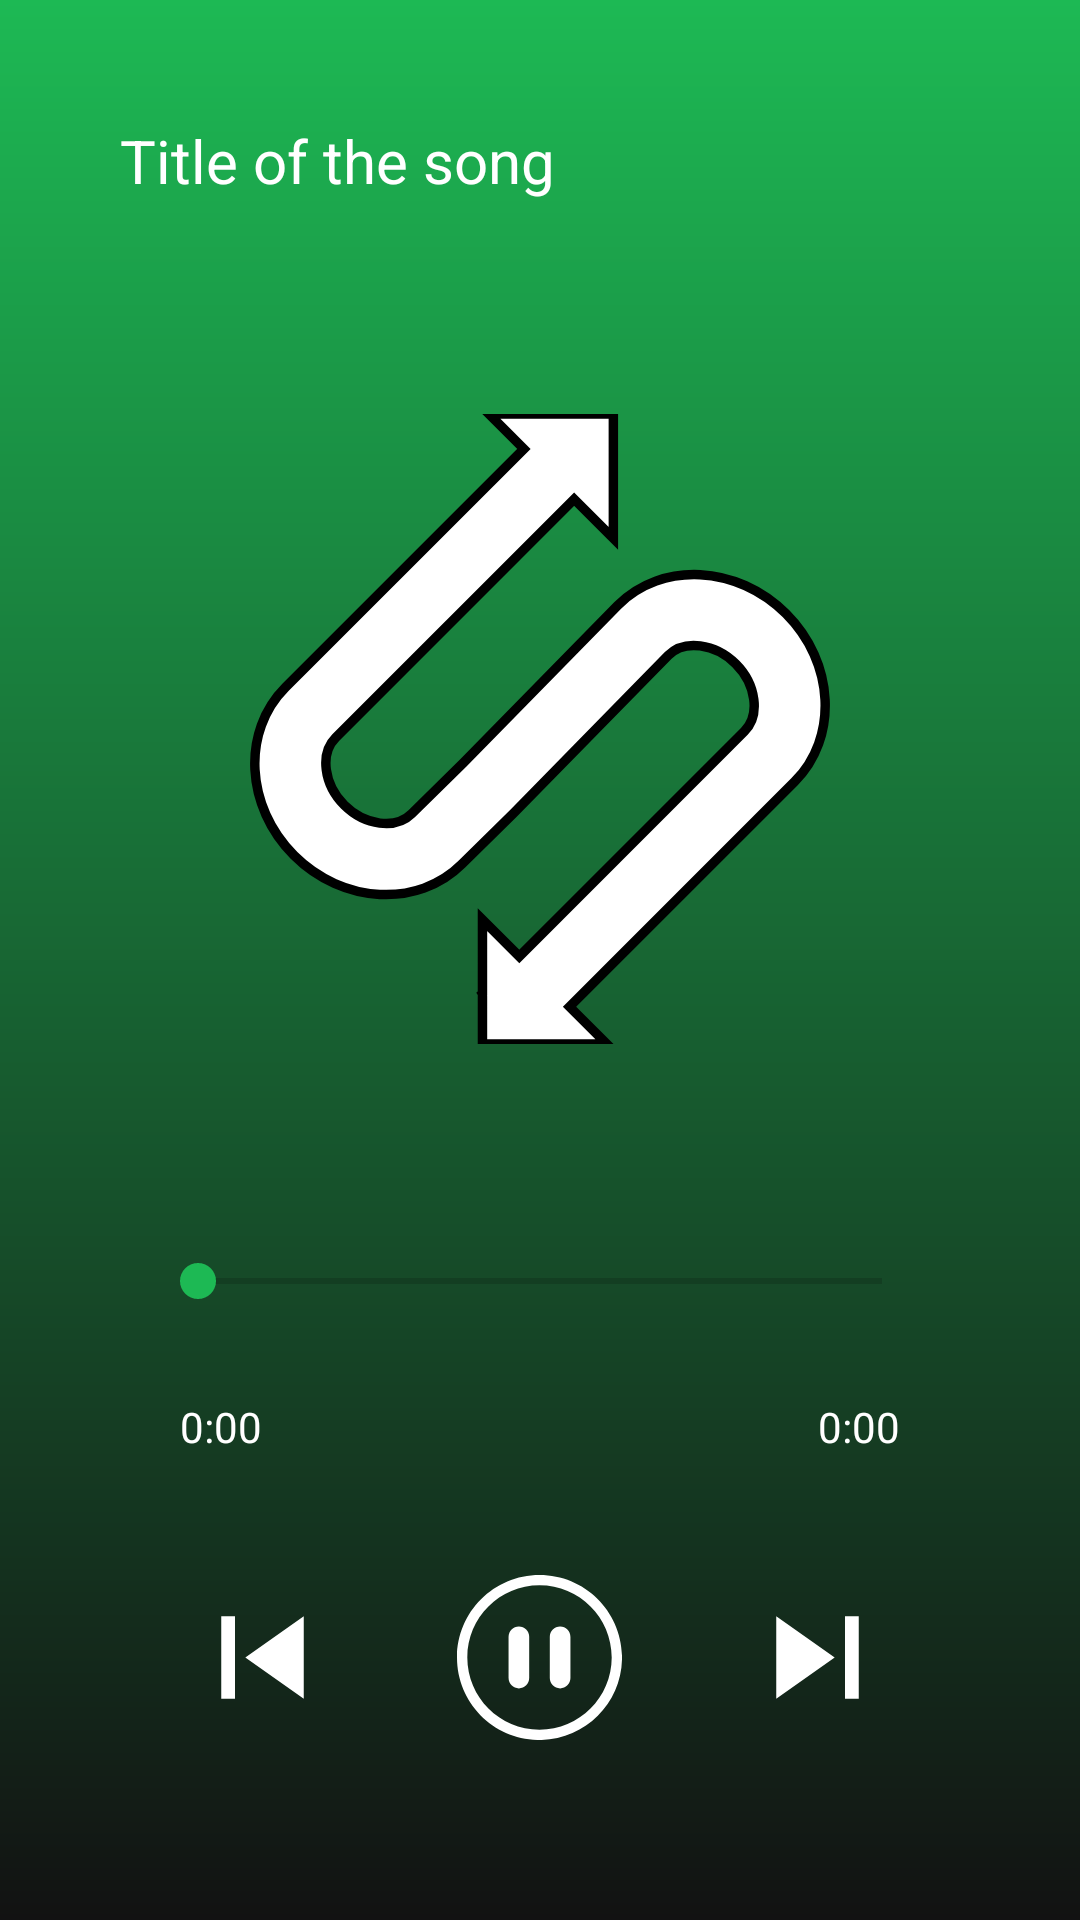

Named icons in this screenshot (1080 × 1920) and their bounding boxes, (x1=x1, y1=y1, x2=x2, y2=y2):
next: (x1=776, y1=1616, x2=859, y2=1699)
pause: (x1=457, y1=1575, x2=622, y2=1740)
previous: (x1=221, y1=1616, x2=304, y2=1699)
